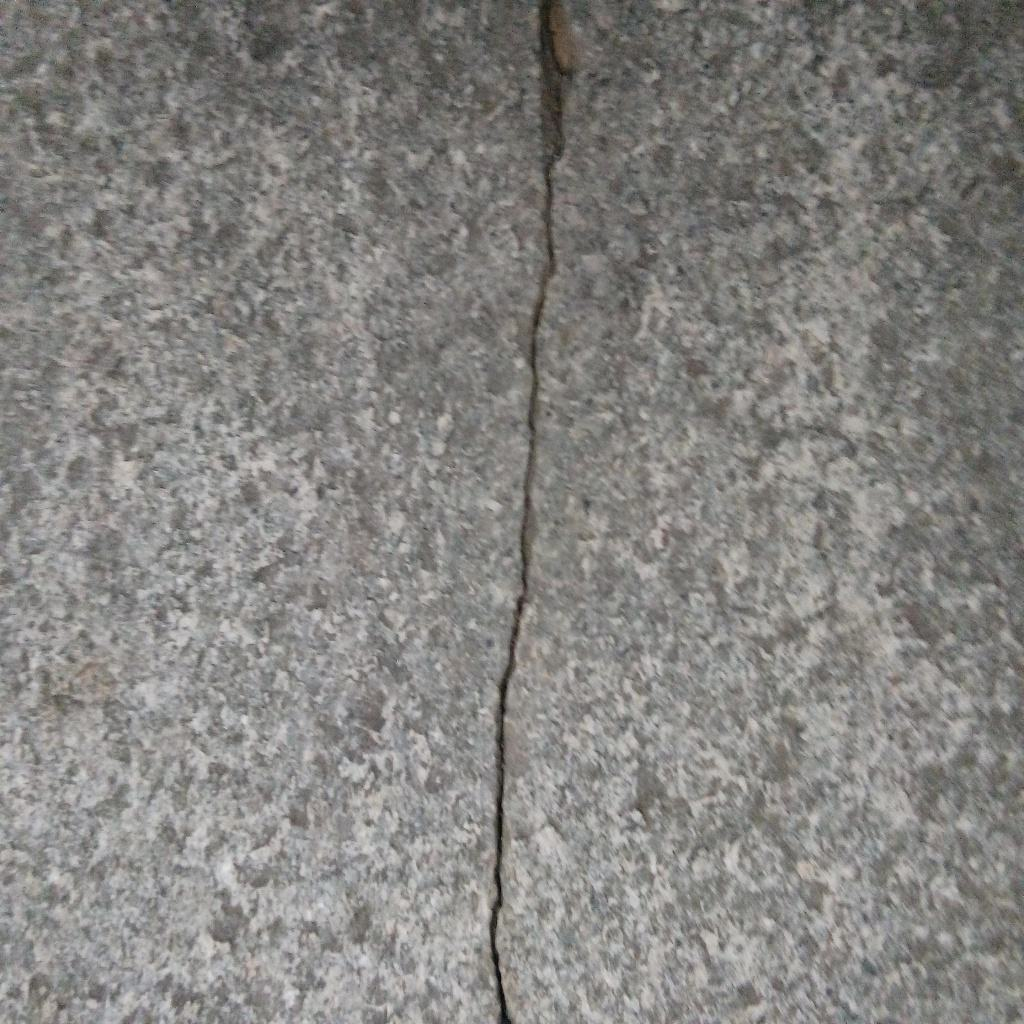Crack: (488, 1, 570, 1024)
